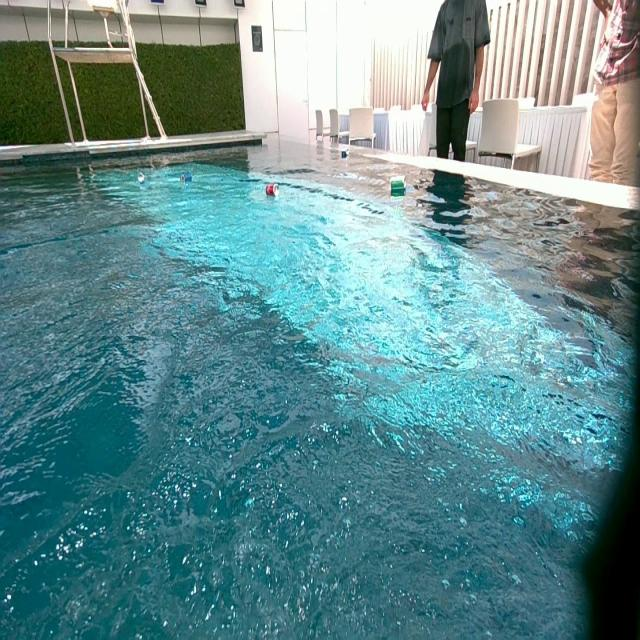Cans: (390, 176, 405, 192), (267, 184, 280, 196), (181, 172, 192, 184), (137, 171, 146, 184), (343, 149, 349, 157)
